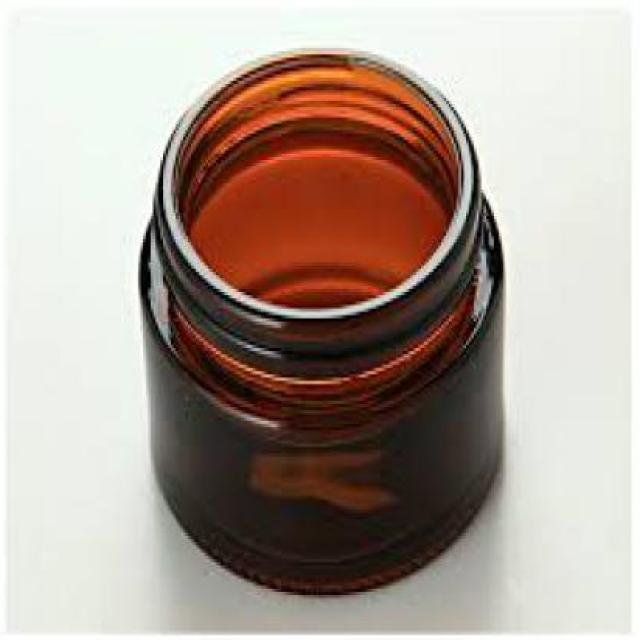kaca: (140, 48, 506, 595)
